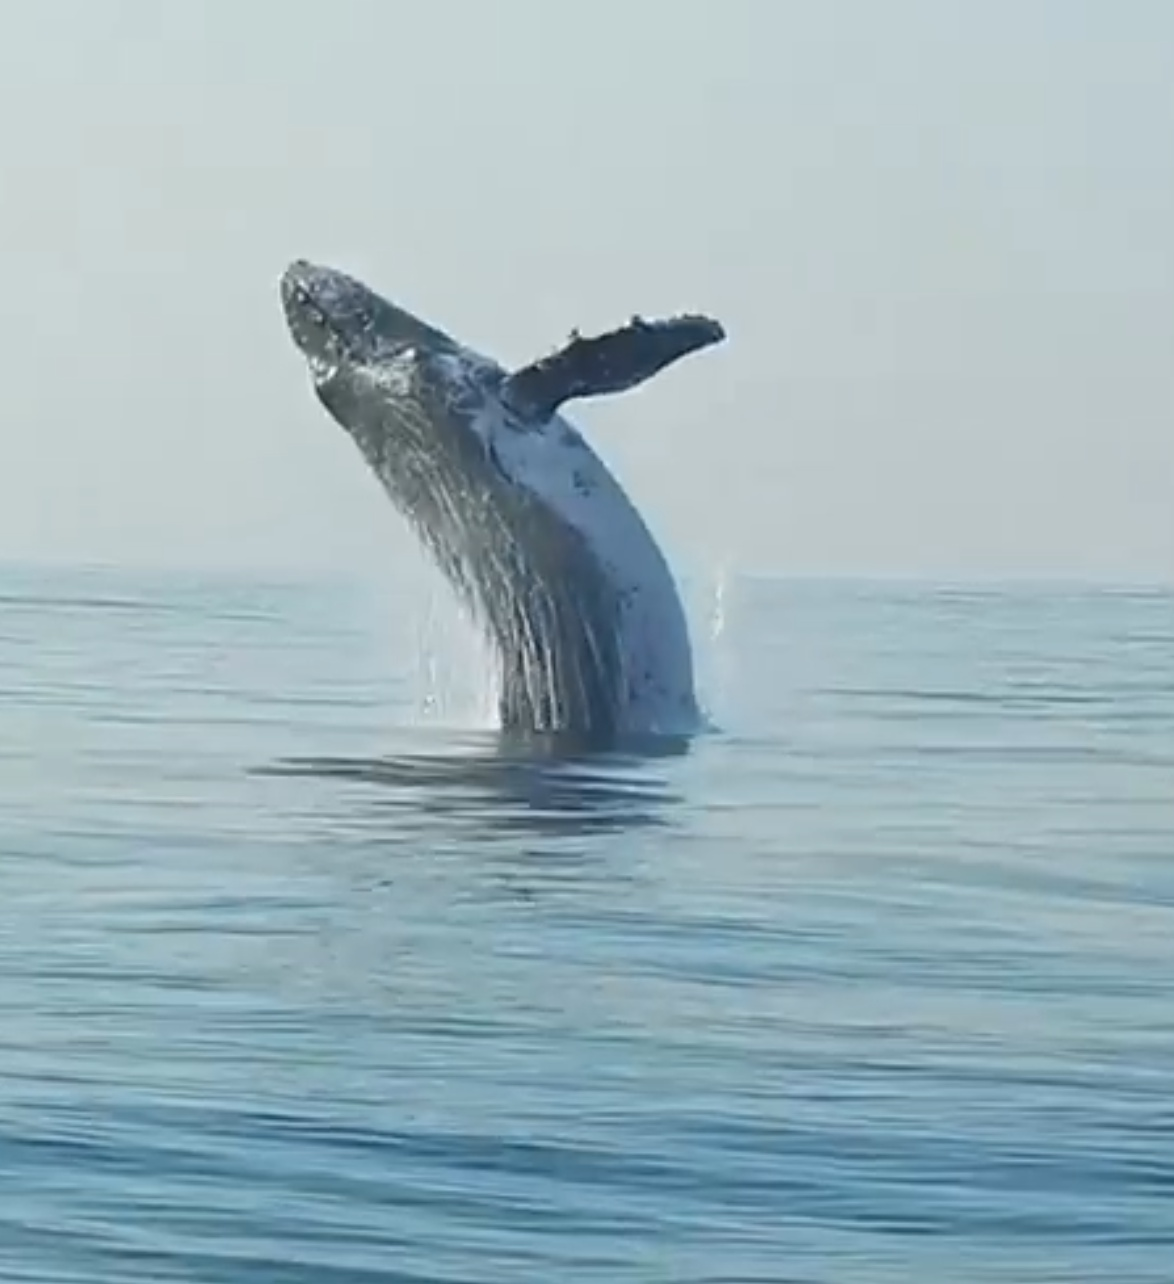humpback: (280, 249, 695, 734)
